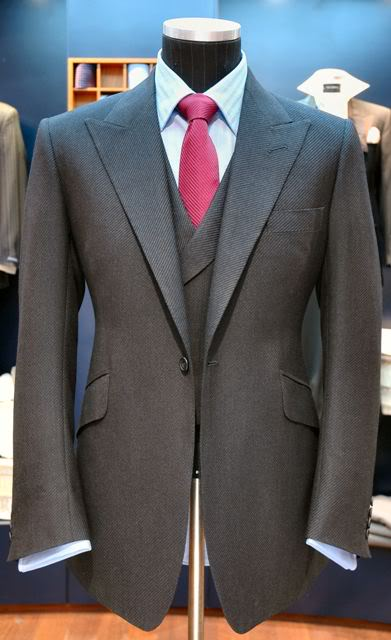F_M_suit jacket: (14, 89, 377, 584)
F_tie: (168, 91, 224, 215)
